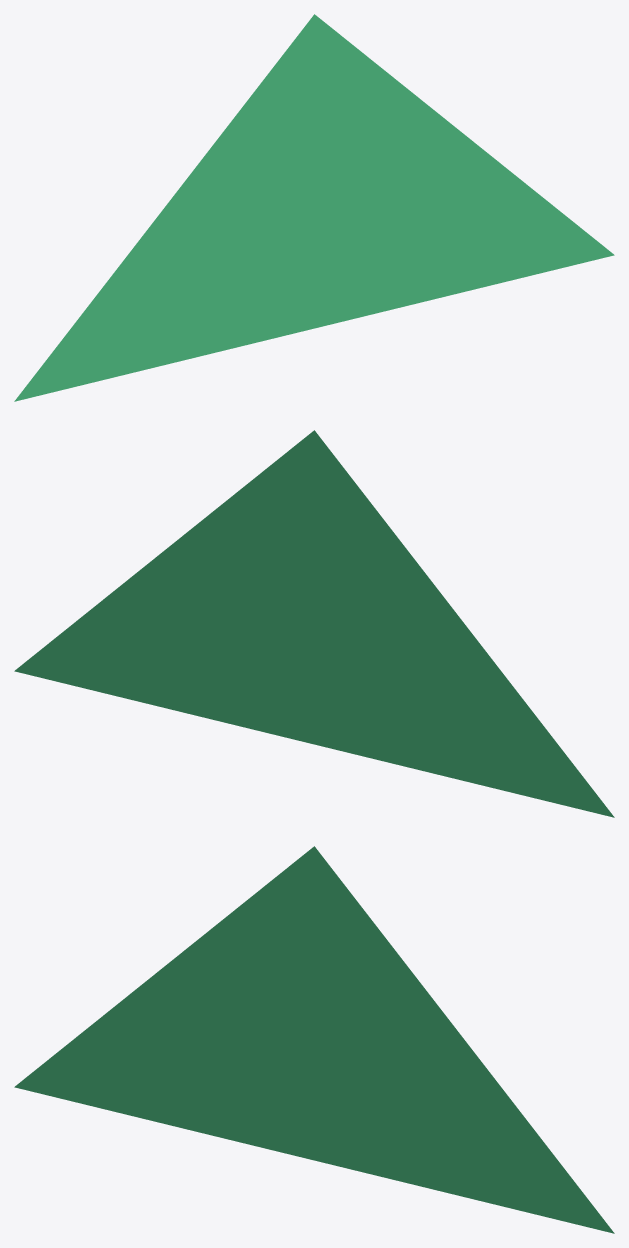
Rendered from triangle.gltf.
3 views of the same model, one above another, from view 1: azimuth 30°, elevation 25°; view 2: azimuth 150°, elevation 25°; view 3: azimuth 330°, elevation 25° (orthographic).
Parts seen in each view (by area): view 1: GreenTriangle; view 2: GreenTriangle; view 3: GreenTriangle.
Part boxes in pixels (x1,y1,x2,y2): GreenTriangle: (14,14,614,401); GreenTriangle: (14,430,614,817); GreenTriangle: (14,846,614,1233).
Size of the model in its own units: 4 by 2 by 0.
